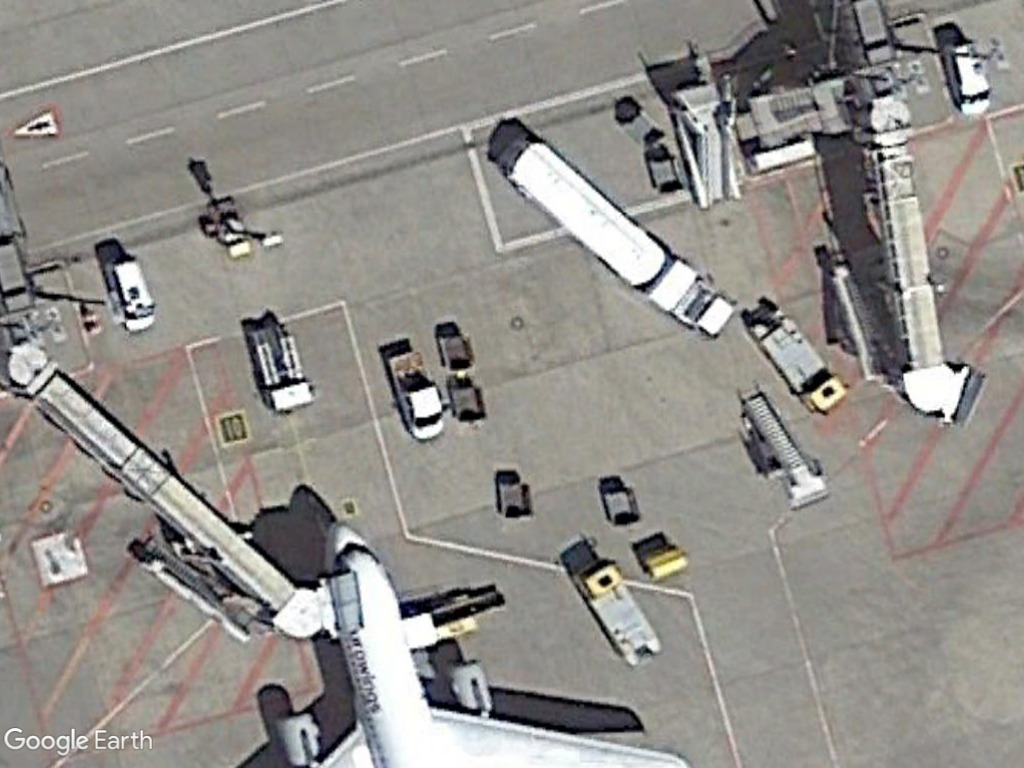longvehicle: (501, 130, 738, 338)
pushbacktruck: (243, 318, 322, 416)
stairtruck: (734, 388, 833, 512)
